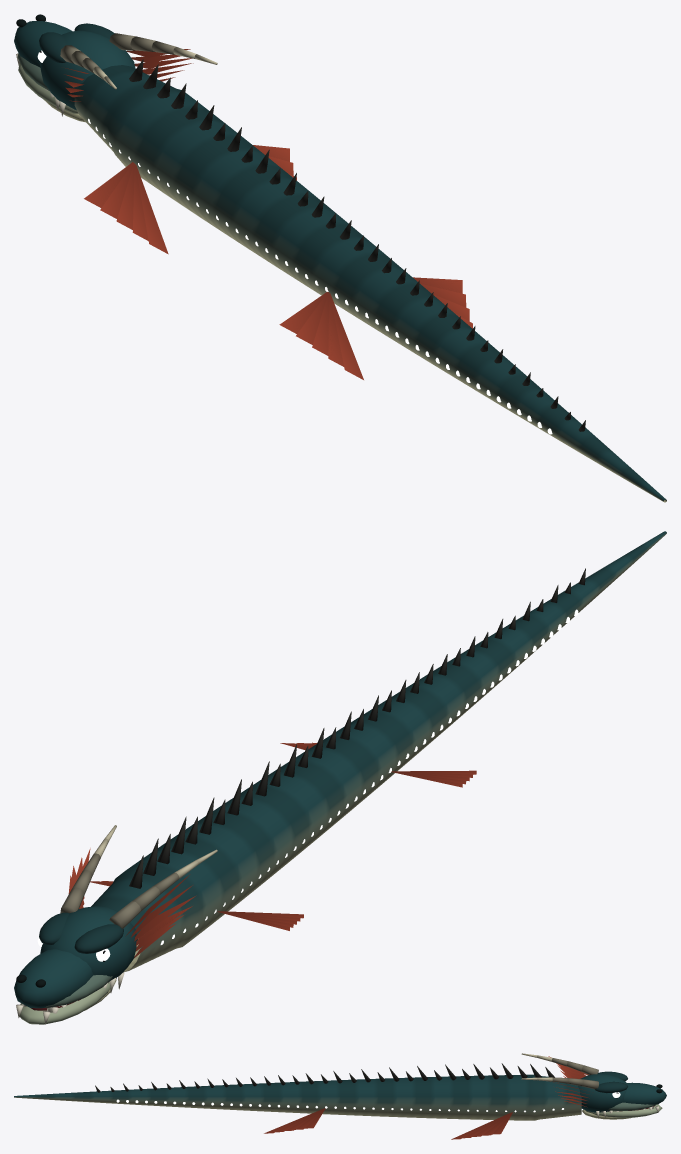
The model's file is leviata.glb.
The picture shows the model from 3 angles, top to bottom: view 1: azimuth 30°, elevation 25°; view 2: azimuth 150°, elevation 25°; view 3: azimuth 270°, elevation 25°; orthographic projection. The views are drawn at different scales.
Parts seen in each view (by area): view 1: Corpo, Brilho; view 2: Corpo, Mandibula, Brilho; view 3: Corpo, Mandibula, Brilho.
Part boxes in pixels (x1,y1,x2,y2): Corpo: [14, 14, 666, 502]; Brilho: [37, 50, 552, 434]; Corpo: [14, 531, 666, 1010]; Mandibula: [19, 978, 116, 1024]; Brilho: [37, 609, 578, 961]; Corpo: [14, 1053, 666, 1139]; Mandibula: [582, 1104, 662, 1119]; Brilho: [116, 1092, 620, 1112].
Size of the model in its own units: 19.2 by 10.5 by 104.
